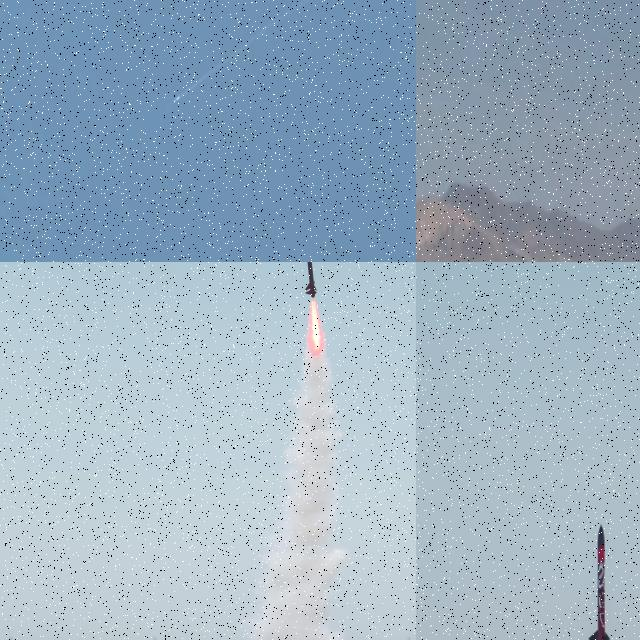Rocket: (588, 523, 610, 640), (303, 262, 317, 298), (173, 96, 180, 103)
